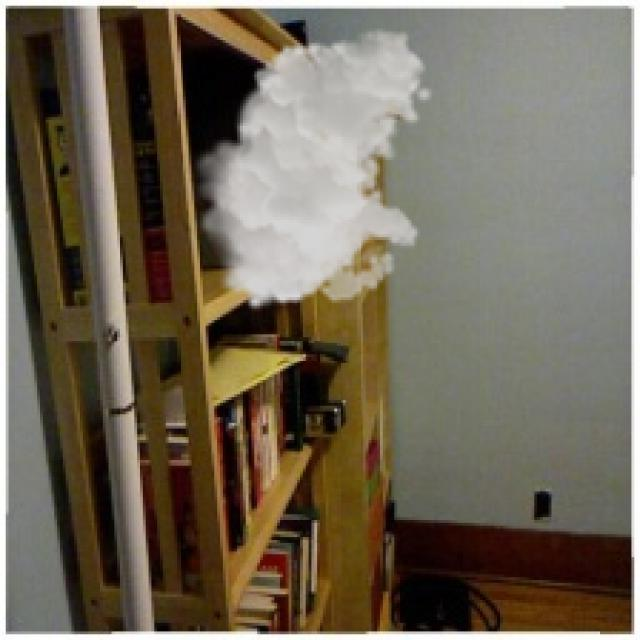Smoke: (188, 28, 434, 312)
